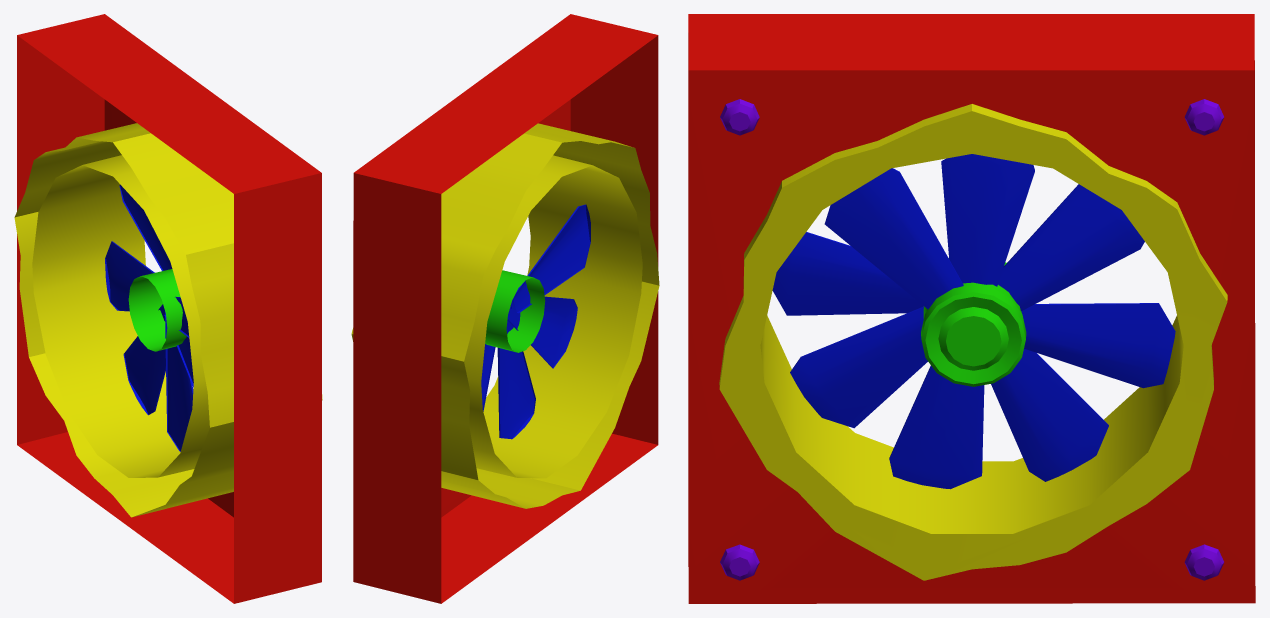
Rendered from вентиляция.fbx.
The picture shows the model from 3 angles, left to right: view 1: azimuth 30°, elevation 25°; view 2: azimuth 150°, elevation 25°; view 3: azimuth 270°, elevation 25°; orthographic projection. The views are drawn at different scales.
Parts seen in each view (by area): view 1: вентиляция; view 2: вентиляция; view 3: вентиляция.
Part boxes in pixels (bbox=[...]): вентиляция: bbox=[14, 14, 322, 603]; вентиляция: bbox=[351, 14, 659, 603]; вентиляция: bbox=[688, 14, 1255, 603].
Bounding box in the file's own units: 202 × 676 × 650.
